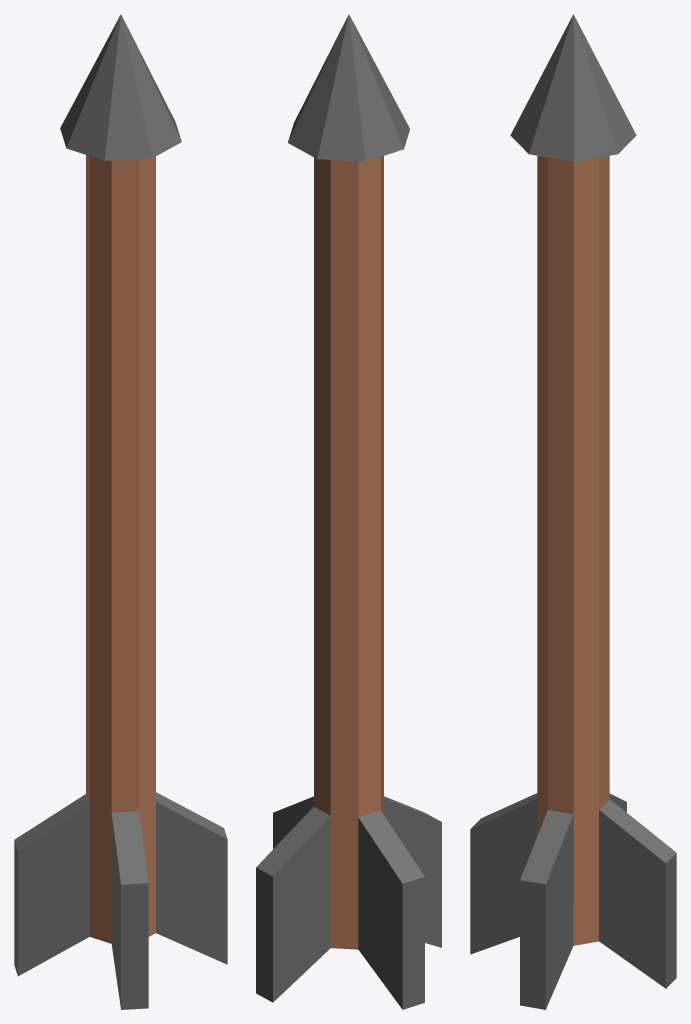
The model's file is arrow.fbx.
3 renders of one model, left to right at view 1: azimuth 30°, elevation 25°; view 2: azimuth 150°, elevation 25°; view 3: azimuth 270°, elevation 25°, orthographic.
Parts seen in each view (by area): view 1: arrow; view 2: arrow; view 3: arrow.
Boxes of the visible parts, x1=… form: arrow: x1=14, y1=14, x2=227, y2=1009; arrow: x1=256, y1=14, x2=441, y2=1009; arrow: x1=470, y1=14, x2=676, y2=1009.
Bounding box in the file's own units: 56.96 × 290 × 56.96.
